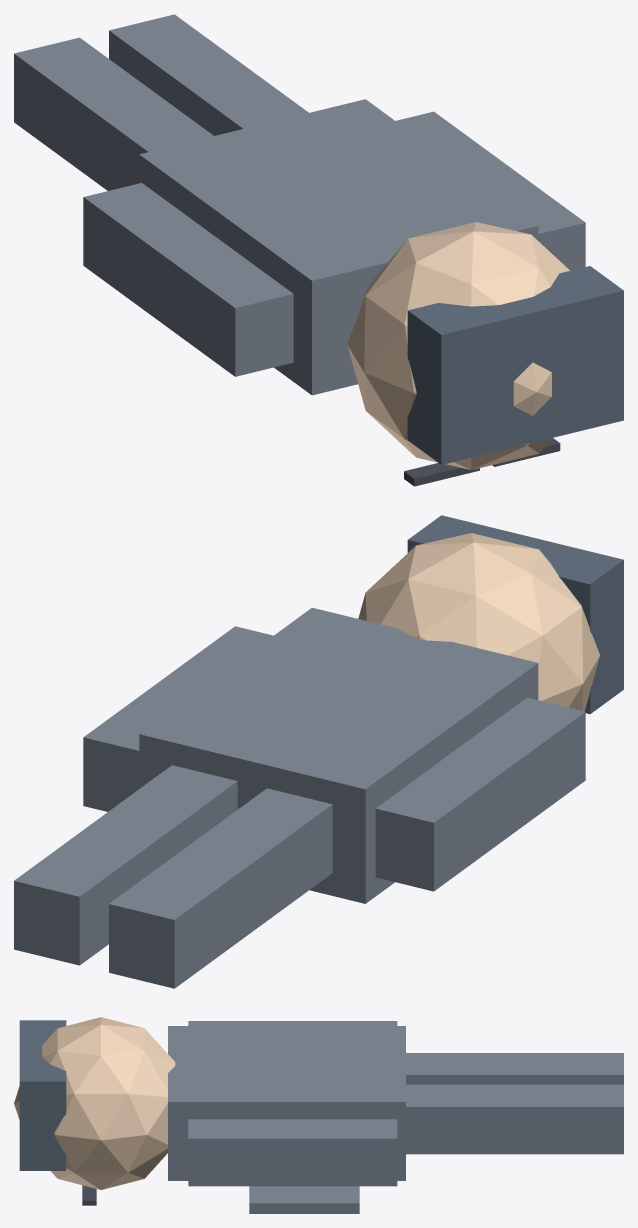
Rendered from cfo.glb.
The picture shows the model from 3 angles, top to bottom: view 1: azimuth 30°, elevation 25°; view 2: azimuth 150°, elevation 25°; view 3: azimuth 270°, elevation 25°; orthographic projection. The views are drawn at different scales.
Visible parts, largest first — view 1: torso_2, hair_6, arm_l_3, head_5, leg_l_0, leg_r_1, arm_r_4, glasses_l_10; view 2: torso_2, leg_l_0, arm_l_3, head_5, leg_r_1, arm_r_4, hair_6; view 3: torso_2, head_5, leg_r_1, arm_r_4, leg_l_0, hair_6, tablet_9, arm_l_3.
Part boxes in pixels (x1,y1,x2,y2): torso_2: (139,99,538,395); hair_6: (407,266,623,464); arm_l_3: (83,183,293,376); head_5: (347,222,569,469); leg_l_0: (14,37,213,190); leg_r_1: (109,14,308,135); arm_r_4: (396,111,585,270); glasses_l_10: (404,463,479,486); torso_2: (139,607,538,903); leg_l_0: (109,788,332,988); arm_l_3: (375,697,585,891); head_5: (358,533,599,711); leg_r_1: (14,765,237,965); arm_r_4: (83,626,273,811); hair_6: (407,515,623,714); torso_2: (168,1026,405,1180); head_5: (14,1017,175,1189); leg_r_1: (406,1084,623,1154); arm_r_4: (188,1119,397,1186); leg_l_0: (406,1053,623,1084); hair_6: (19,1020,66,1170); tablet_9: (249,1186,359,1213); arm_l_3: (188,1021,397,1025).
Size of the model in its own units: 0.96 by 0.6 by 2.1.
